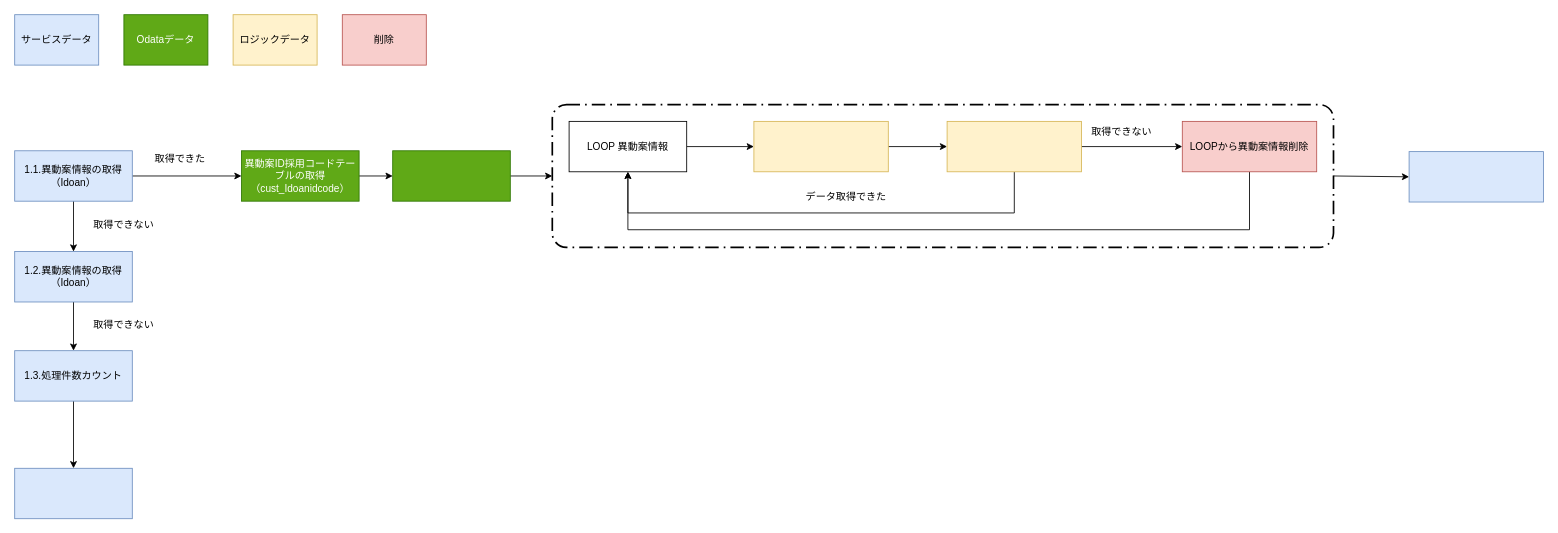
The diagram is 1558 pixels wide and 533 high, and some of its shapes have lost their labels. The shapes that lost their labels are listed below. From the top down, each one's centre as x and y in pixels, then its label:
the point at 820,146: 事業単位の取得 （empJob.businessUnit）
the point at 1014,146: 異動案ID採番用コードテーブルの取得
the point at 451,175: 職務情報の取得 （empJob）
the point at 1476,176: 1.1.2.サブの異動案取得 （Idoan）
the point at 73,493: 1.4.オンライン上限値チェック
